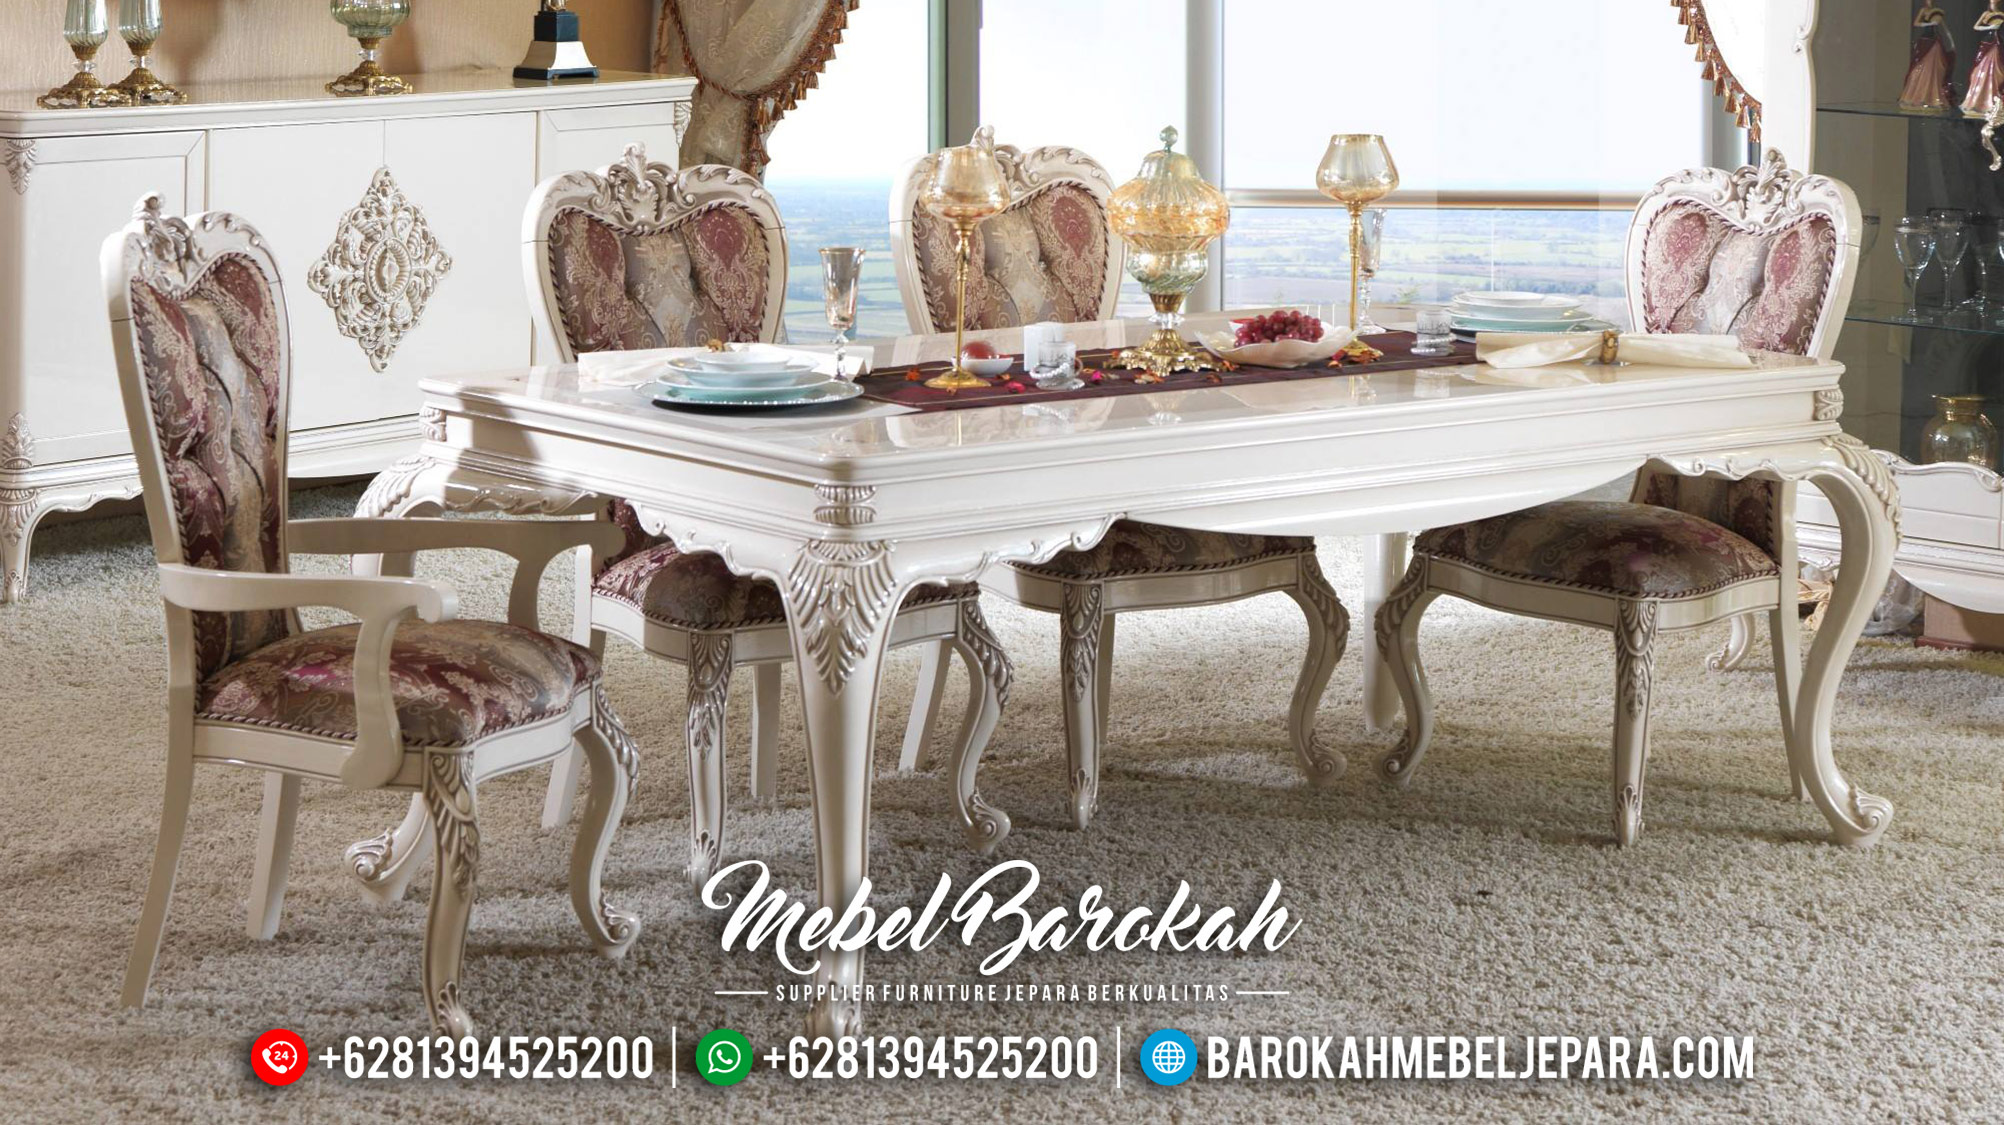Carving Chair: (63, 194, 650, 1026)
Carving Table: (428, 315, 1935, 994)
